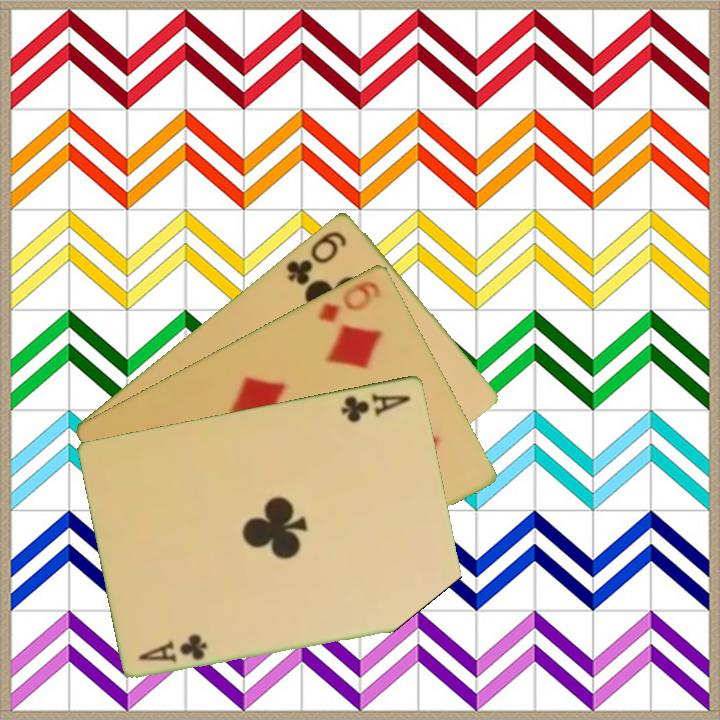6c: (283, 227, 350, 288)
6d: (315, 276, 384, 325)
Ac: (337, 388, 414, 425), (135, 631, 211, 666)
